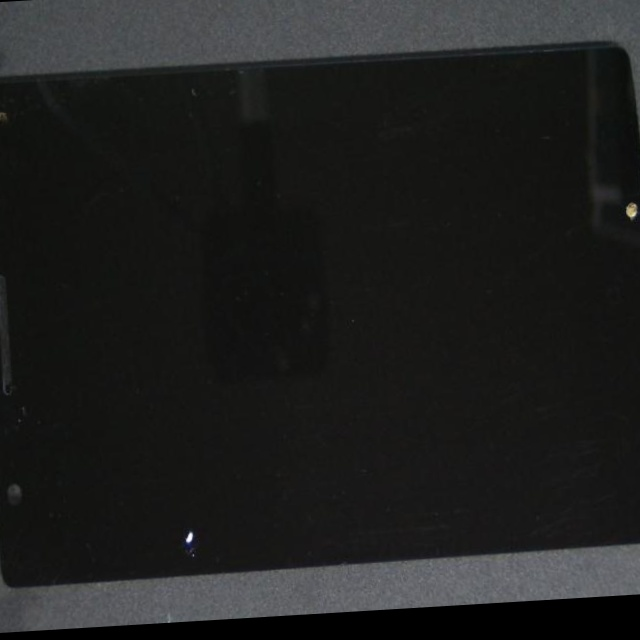stain: (65, 233, 303, 628)
